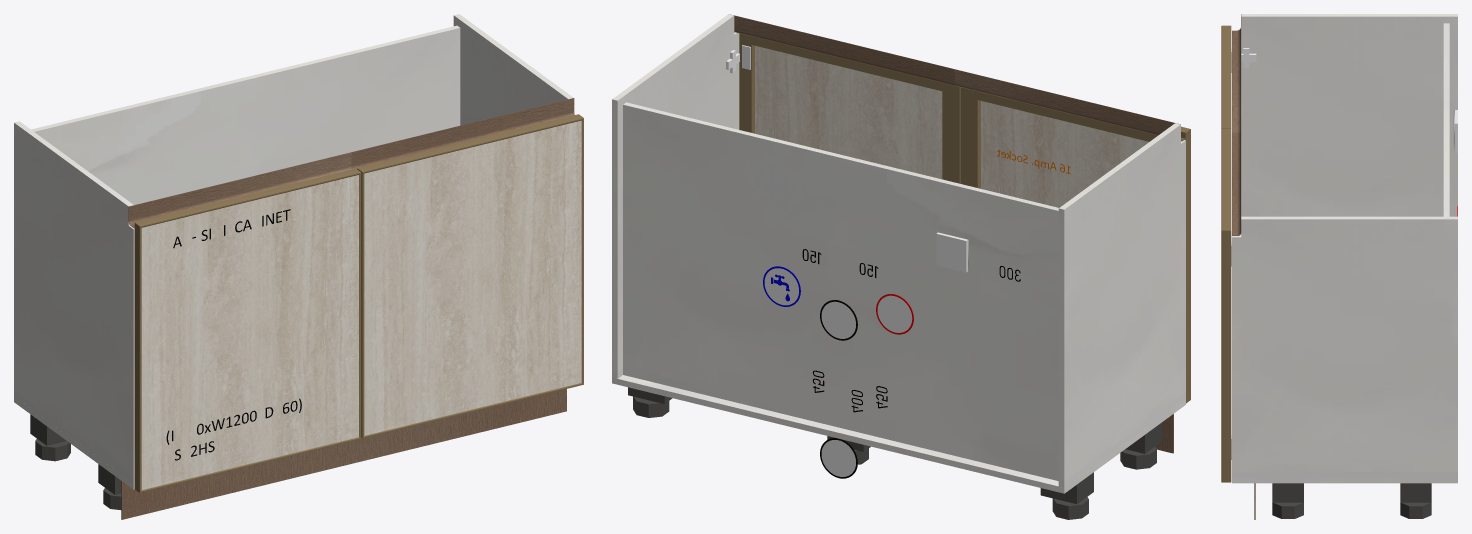
File: BC-SK-CJ-ST-XXX-2HS-XXX-1200-720-560-15.glb
3 renders of one model, left to right at view 1: azimuth 30°, elevation 25°; view 2: azimuth 150°, elevation 25°; view 3: azimuth 270°, elevation 25°, orthographic. The views are drawn at different scales.
Parts seen in each view (by area): view 1: Object_node_17, Object_node, TP, TP_node_0, Object_node_91, ExtrSplGeo, TP_node_1, Extrusion_node_1, Extrusion, Extrusion_node_2, Extrusion_node_5, Object_node_35 (+6 smaller); view 2: TP, TP_node_0, Object_node_17, Object_node, TP_node_1, ExtrSplGeo, TP_node, Extrusion_node, Extrusion_node_2, Extrusion_node_5, Extrusion, Extrusion_node_1 (+8 smaller); view 3: TP_node_1, TP_node_0, Extrusion_node_3, ExtrSplGeo, TP_node, TP, Object_node_37, Extrusion_node_2, Extrusion, Plate_node, Plate_node_1, Foot_node (+1 smaller).
Part boxes in pixels (left/top/right/bottom): Object_node_17: left=364, top=120, right=581, bottom=435; Object_node: left=141, top=175, right=358, bottom=489; TP: left=31, top=25, right=460, bottom=204; TP_node_0: left=14, top=121, right=134, bottom=477; Object_node_91: left=121, top=389, right=566, bottom=519; ExtrSplGeo: left=128, top=98, right=574, bottom=228; TP_node_1: left=453, top=14, right=573, bottom=125; Extrusion_node_1: left=134, top=223, right=141, bottom=492; Extrusion: left=135, top=168, right=360, bottom=227; Extrusion_node_2: left=357, top=114, right=583, bottom=173; Extrusion_node_5: left=357, top=168, right=364, bottom=438; Object_node_35: left=14, top=390, right=134, bottom=483; TP: left=623, top=102, right=1058, bottom=480; TP_node_0: left=1058, top=123, right=1185, bottom=481; Object_node_17: left=755, top=45, right=942, bottom=179; Object_node: left=981, top=101, right=1148, bottom=207; TP_node_1: left=612, top=14, right=739, bottom=372; ExtrSplGeo: left=730, top=14, right=1185, bottom=141; TP_node: left=612, top=375, right=1185, bottom=493; Extrusion_node: left=960, top=87, right=980, bottom=188; Extrusion_node_2: left=744, top=34, right=949, bottom=91; Extrusion_node_5: left=942, top=85, right=960, bottom=183; Extrusion: left=970, top=89, right=1190, bottom=141; Extrusion_node_1: left=1181, top=129, right=1190, bottom=403; TP_node_1: left=1232, top=216, right=1457, bottom=471; TP_node_0: left=1241, top=14, right=1457, bottom=234; Extrusion_node_3: left=1221, top=230, right=1231, bottom=482; ExtrSplGeo: left=1232, top=14, right=1241, bottom=235; TP_node: left=1232, top=477, right=1457, bottom=483; TP: left=1443, top=23, right=1449, bottom=216; Object_node_37: left=1232, top=472, right=1457, bottom=477; Extrusion_node_2: left=1221, top=128, right=1231, bottom=230; Extrusion: left=1221, top=25, right=1231, bottom=127; Plate_node: left=1400, top=483, right=1431, bottom=502; Plate_node_1: left=1272, top=483, right=1303, bottom=502; Foot_node: left=1400, top=502, right=1431, bottom=518.
Size of what is drawn, in the model's own units: 1.2 by 0.8201 by 0.5899.
14 materials, 3 textured.
